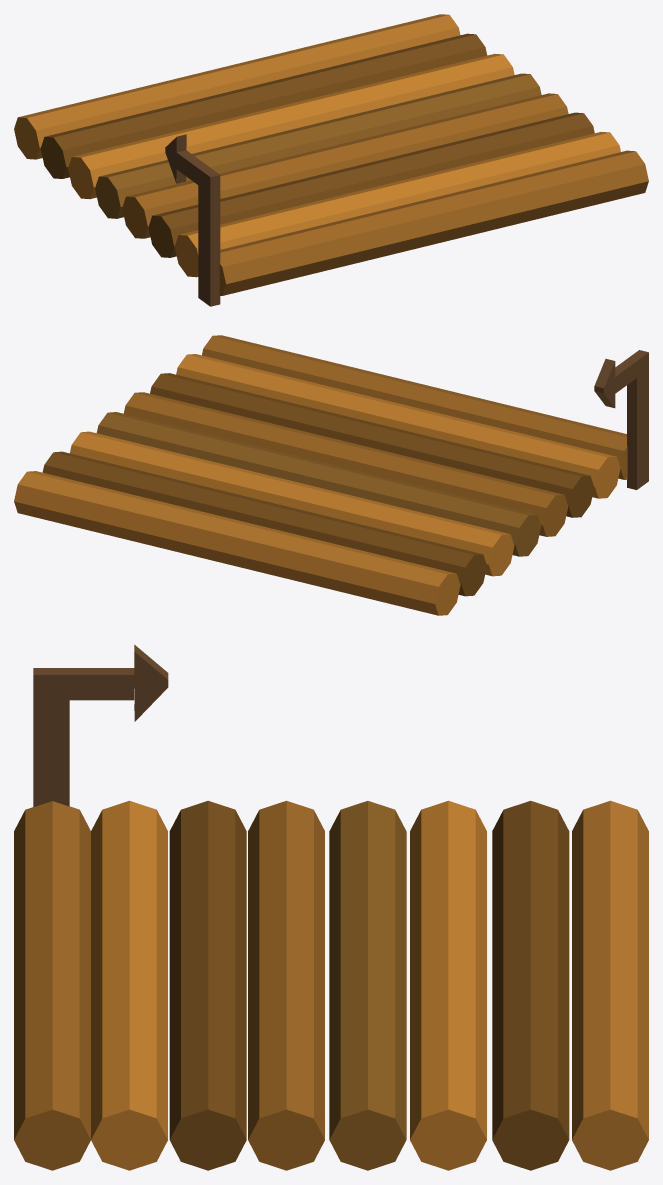
File: ConayorStatic.glb
The picture shows the model from 3 angles, top to bottom: view 1: azimuth 30°, elevation 25°; view 2: azimuth 150°, elevation 25°; view 3: azimuth 270°, elevation 25°; orthographic projection. The views are drawn at different scales.
Parts seen in each view (by area): view 1: Cylinder, Cylinder.006, Cylinder.007, Cylinder.005, Cylinder.004, Cylinder.002, Cylinder.003, Cylinder.001, Cube; view 2: Cylinder.007, Cylinder.005, Cylinder.003, Cylinder.004, Cylinder.006, Cylinder.001, Cylinder.002, Cylinder, Cube; view 3: Cylinder.004, Cylinder.002, Cylinder.006, Cylinder.003, Cylinder.005, Cylinder.007, Cylinder.001, Cylinder, Cube.
Boxes of the visible parts, box(x1,y1,x2,y2) form: Cylinder: box(219, 150, 648, 295); Cylinder.006: box(40, 33, 487, 178); Cylinder.007: box(14, 14, 460, 159); Cylinder.005: box(68, 54, 514, 199); Cylinder.004: box(95, 73, 541, 218); Cylinder.002: box(148, 112, 594, 257); Cylinder.003: box(122, 93, 568, 238); Cylinder.001: box(174, 131, 620, 277); Cube: box(165, 134, 220, 306); Cylinder.007: box(14, 471, 460, 615); Cylinder.005: box(70, 431, 514, 576); Cylinder.003: box(123, 392, 568, 536); Cylinder.004: box(96, 412, 541, 556); Cylinder.006: box(42, 451, 486, 596); Cylinder.001: box(176, 354, 620, 498); Cylinder.002: box(150, 373, 594, 517); Cylinder: box(202, 335, 627, 479); Cube: box(594, 350, 648, 489); Cylinder.004: box(329, 801, 406, 1170); Cylinder.002: box(169, 800, 246, 1170); Cylinder.006: box(492, 800, 569, 1170); Cylinder.003: box(248, 800, 324, 1170); Cylinder.005: box(410, 800, 486, 1170); Cylinder.007: box(572, 800, 648, 1170); Cylinder.001: box(91, 800, 167, 1170); Cylinder: box(14, 801, 90, 1170); Cube: box(33, 644, 168, 807).
Bounding box in the file's own units: 5.35 × 1.72 × 4.55.
